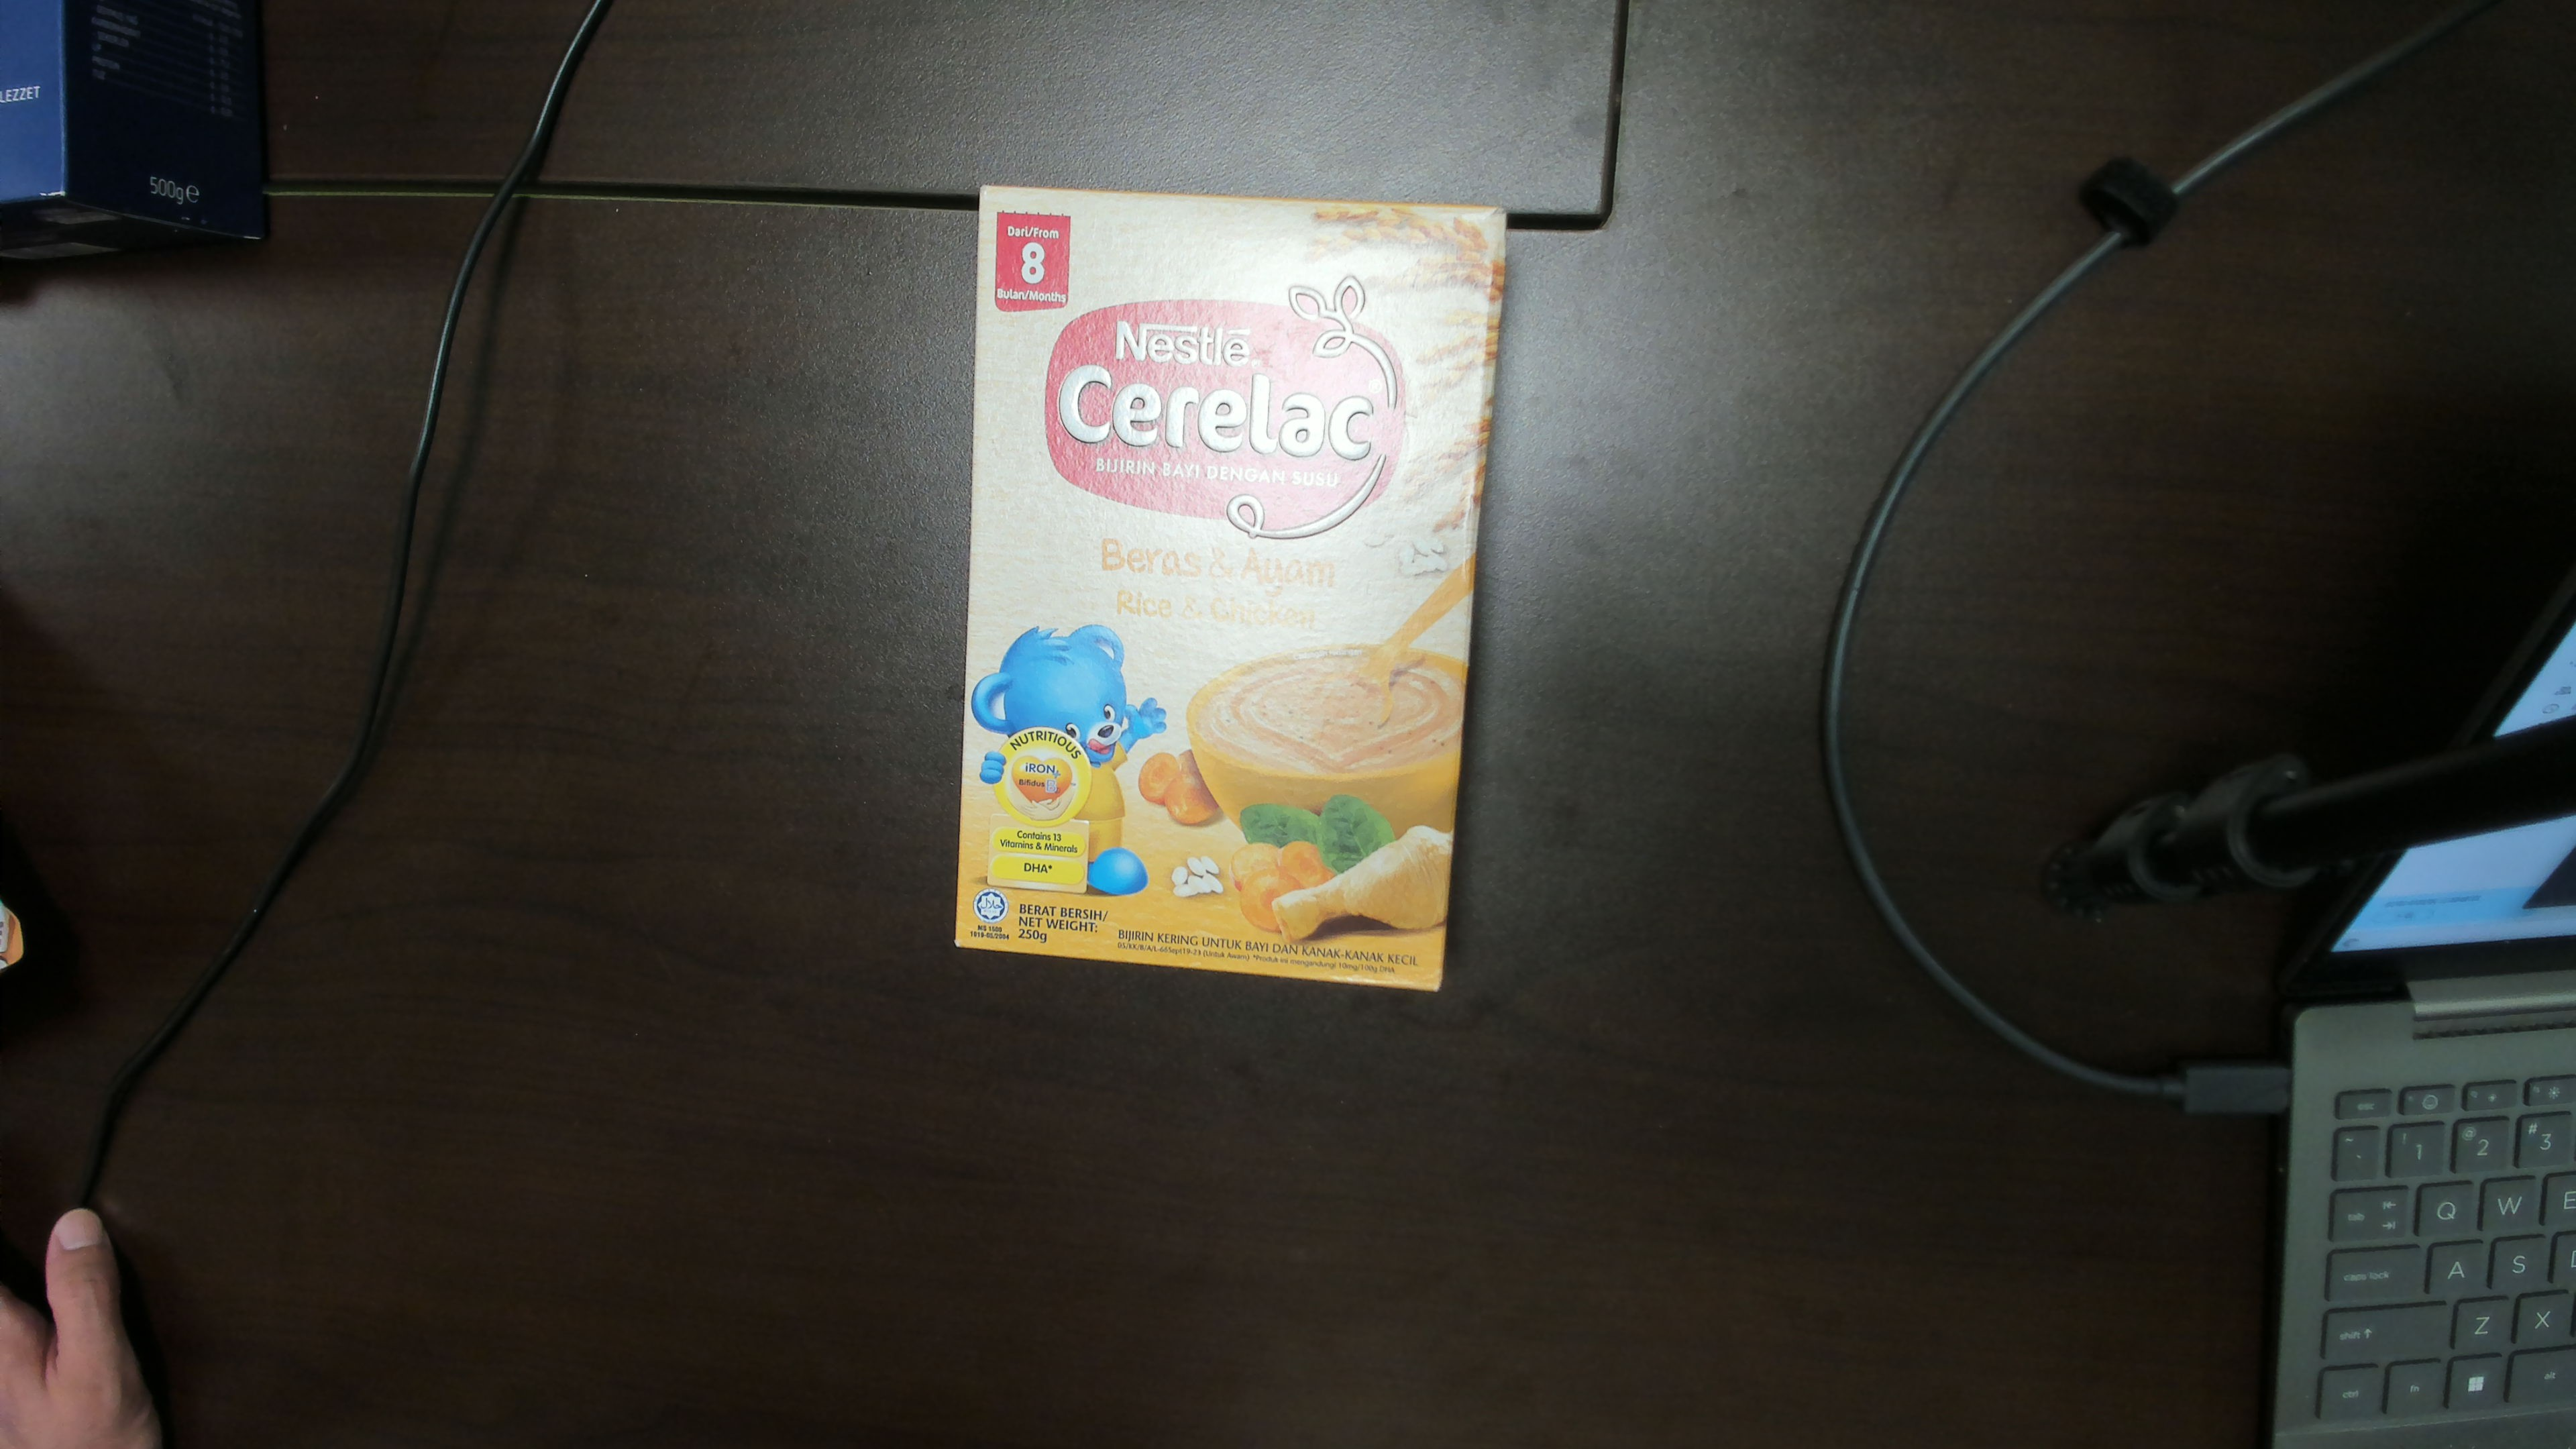Babyfood_200-299g_Halal_NonHealthy: (982, 234, 1419, 957)
